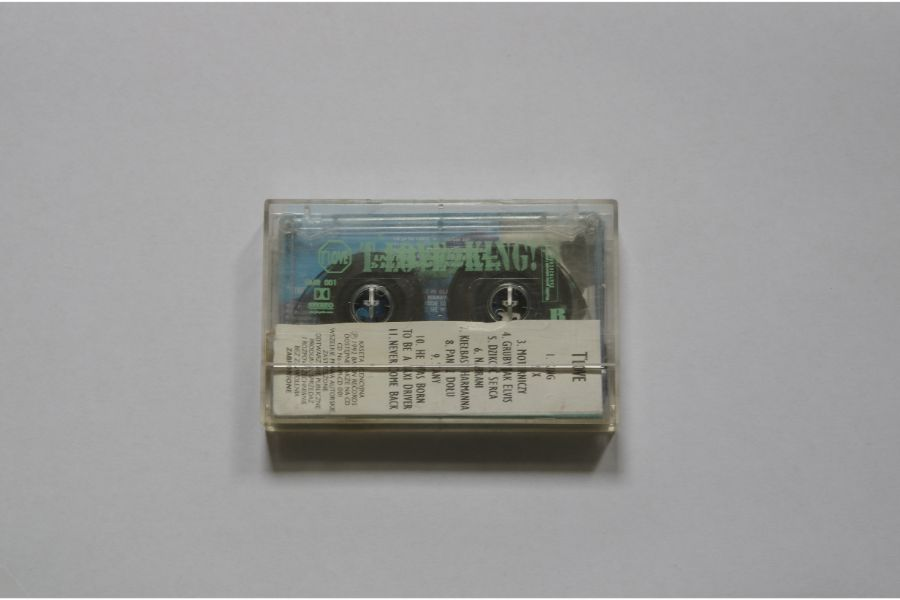album: (260, 198, 619, 433)
